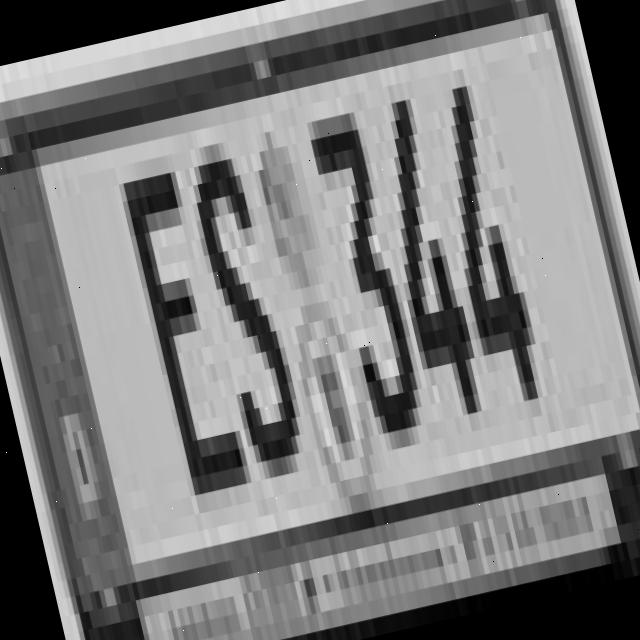Allemagne: (0, 159, 130, 584)
EU: (0, 25, 640, 582)
